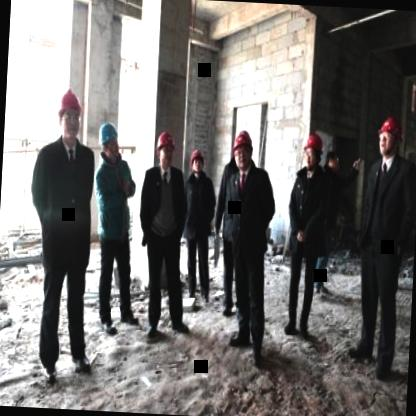head: (324, 148, 342, 174)
helmet: (51, 82, 85, 148), (374, 114, 402, 158), (230, 127, 255, 171), (154, 128, 178, 172), (97, 121, 122, 163), (301, 130, 324, 172), (188, 145, 204, 177)
